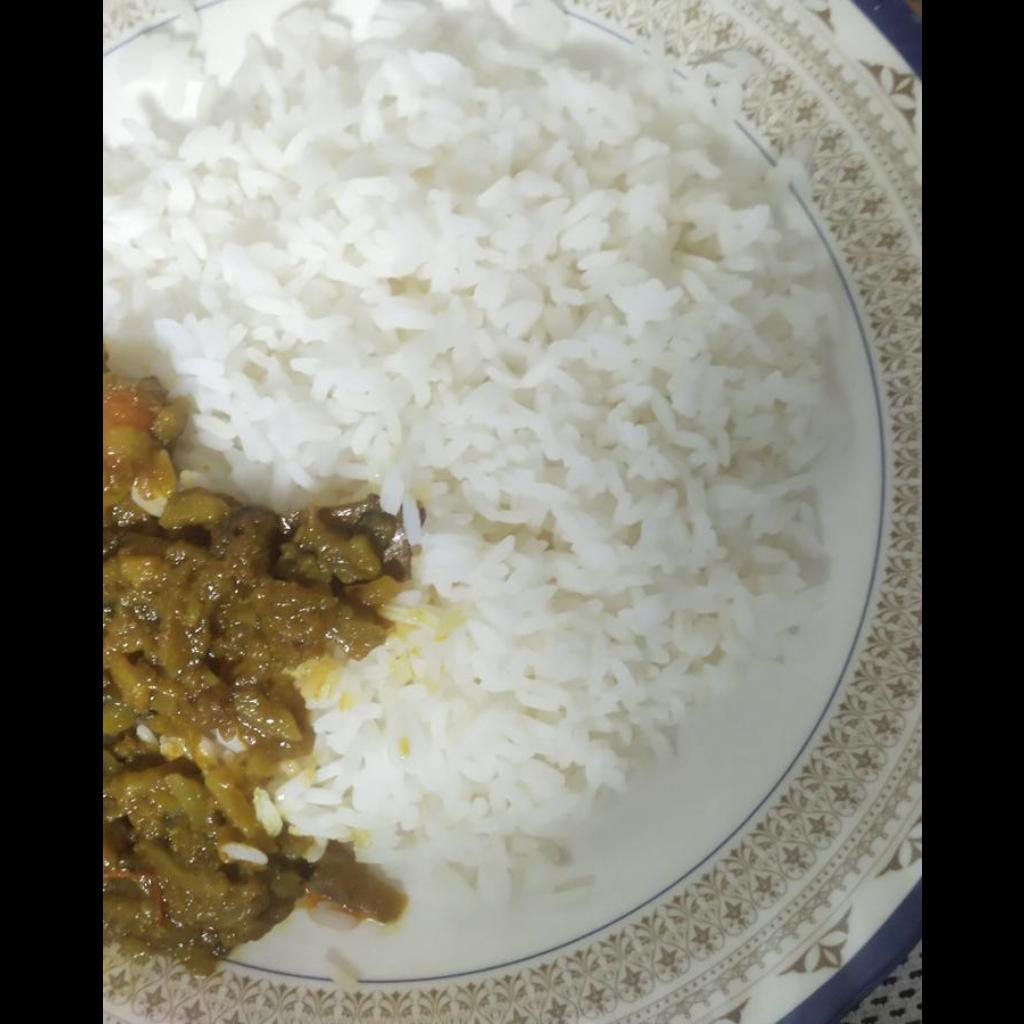rice: (102, 0, 829, 907)
vegetable: (102, 380, 396, 968)
